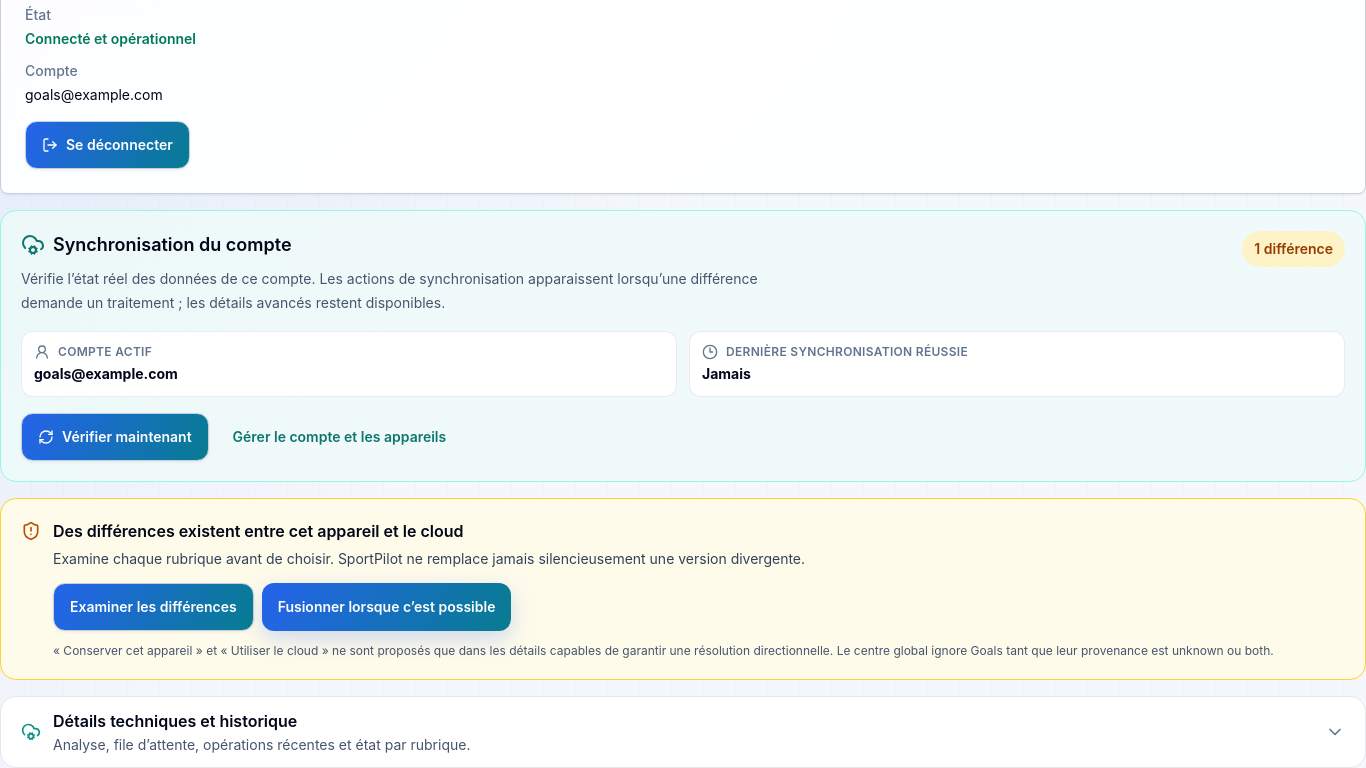
/settings/sync-prototype — détail Goals réel › ouvre le détail Objectifs réel et expose both sans aucune résolution
The image size is (1366, 768).
(page scrolled)
Click the button "Examiner les différences": {"x": 153, "y": 607} [53,583,254,631]
(page scrolled)
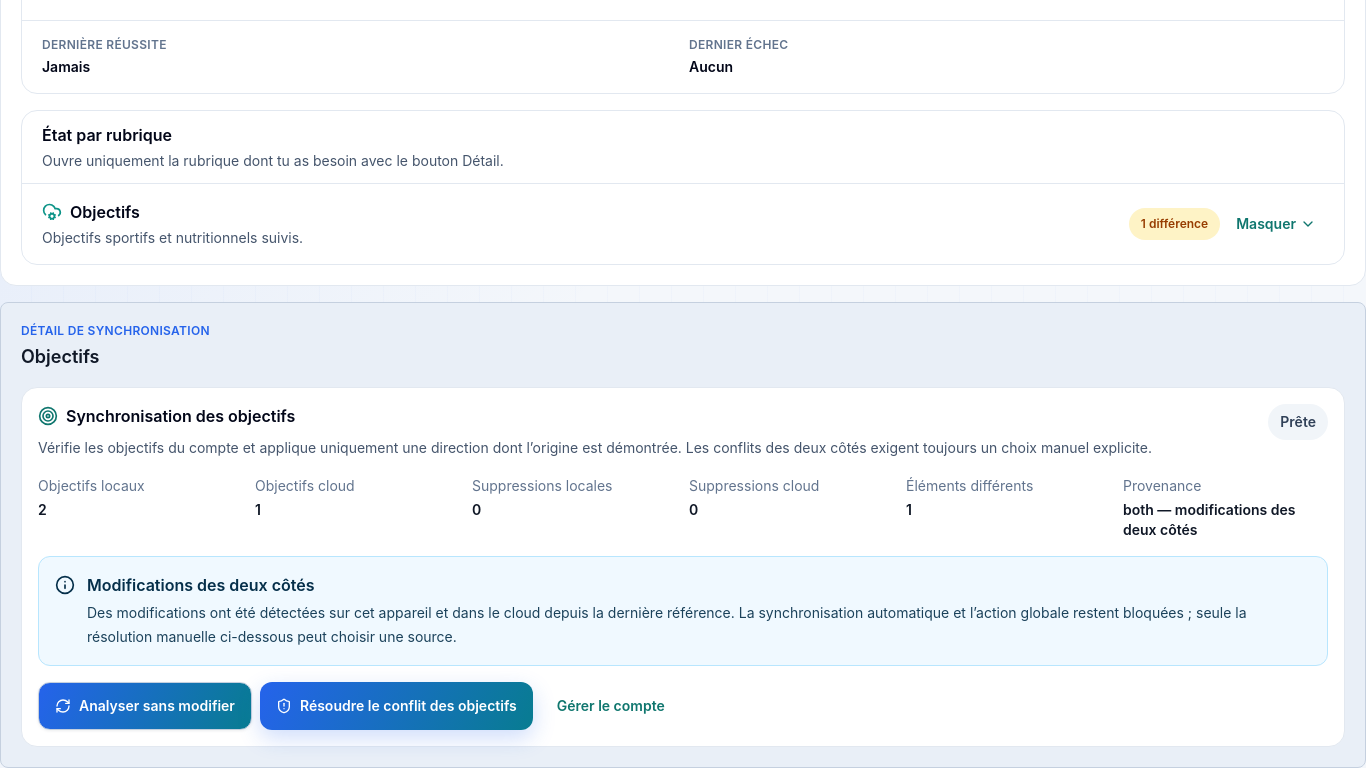
Check: the button "Conserver cet appareil" is not shown
Check: the heading "Objectifs" is shown, box [21,346,100,367]
Check: the text "both — modifications des deux côtés" is shown, box [1123,501,1296,538]
